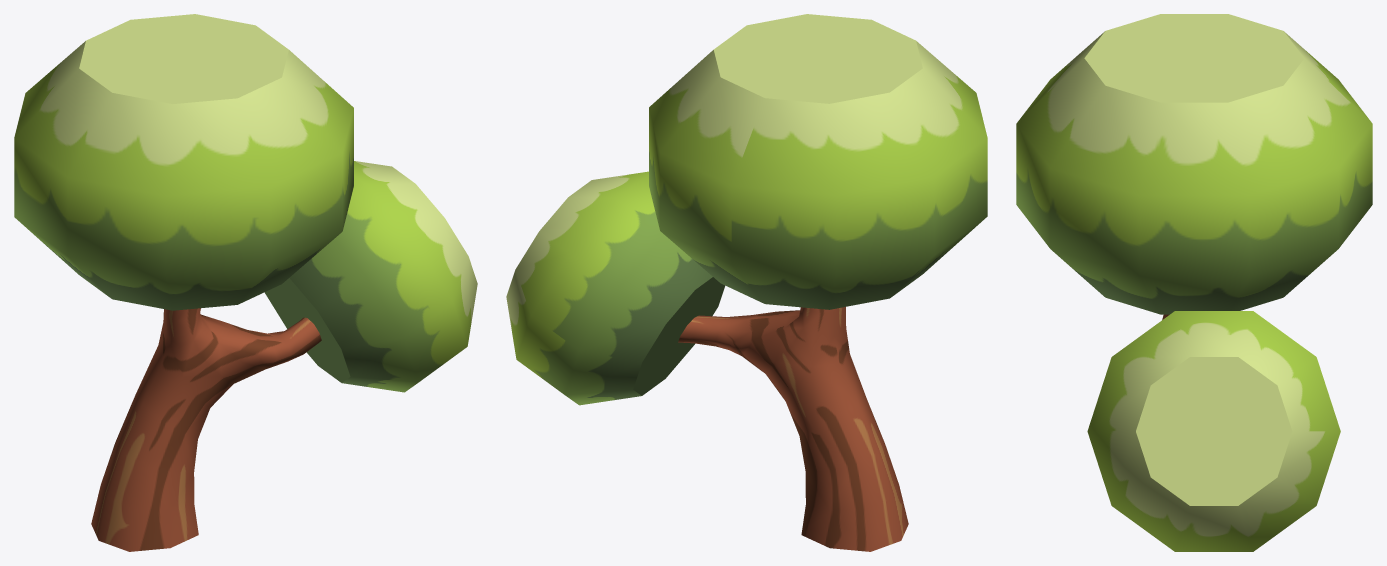
File: arvore03.FBX
3 renders of one model, left to right at view 1: azimuth 30°, elevation 25°; view 2: azimuth 150°, elevation 25°; view 3: azimuth 270°, elevation 25°, orthographic. The views are drawn at different scales.
Parts seen in each view (by area): view 1: folhasArvore005, folhasArvore006, troncoArvore003; view 2: folhasArvore005, folhasArvore006, troncoArvore003; view 3: folhasArvore005, folhasArvore006.
Part boxes in pixels (<box>): folhasArvore005: <box>14,14,353,310</box>; folhasArvore006: <box>265,161,477,392</box>; troncoArvore003: <box>91,308,321,551</box>; folhasArvore005: <box>649,14,987,309</box>; folhasArvore006: <box>506,171,725,405</box>; troncoArvore003: <box>678,307,908,551</box>; folhasArvore005: <box>1016,14,1372,314</box>; folhasArvore006: <box>1087,311,1340,551</box>.
Size of the model in its own units: 201 by 208 by 142.
